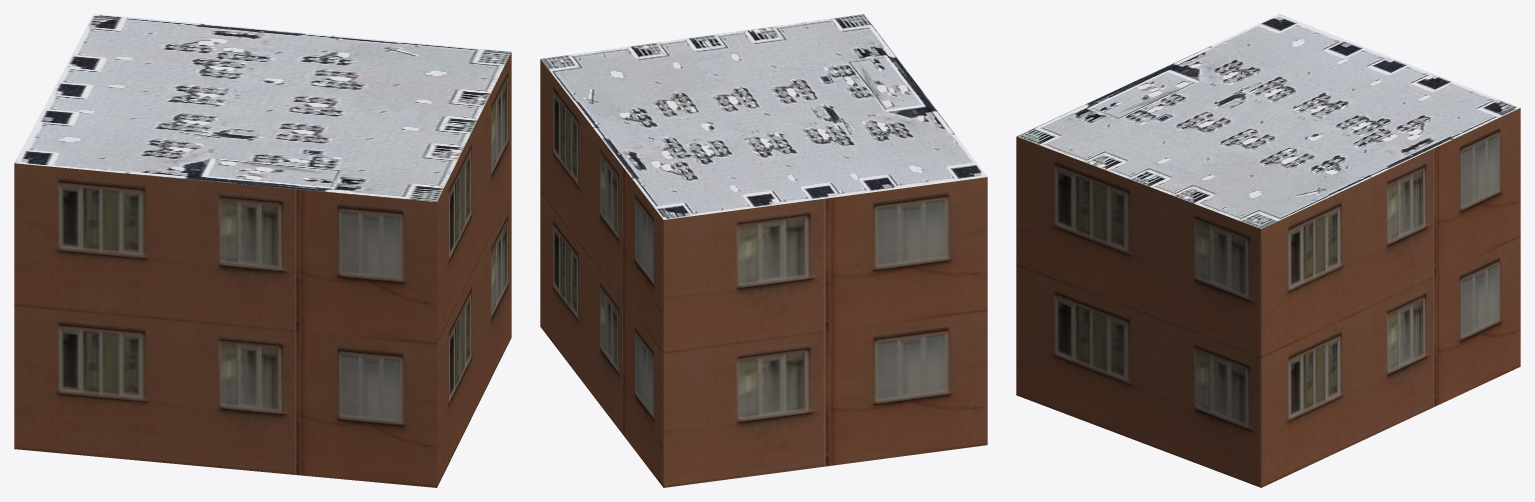
Rendered from ResTex__438.fbx.
3 renders of one model, left to right at view 1: azimuth 30°, elevation 25°; view 2: azimuth 150°, elevation 25°; view 3: azimuth 270°, elevation 25°, orthographic. The views are drawn at different scales.
Parts seen in each view (by area): view 1: CityEngineMaterial_20_m, CityEngineMaterial_4_m; view 2: CityEngineMaterial_20_m, CityEngineMaterial_4_m; view 3: CityEngineMaterial_20_m, CityEngineMaterial_4_m.
Boxes of the visible parts, x1,y1,x2,y2 form: CityEngineMaterial_20_m: [14, 52, 511, 487]; CityEngineMaterial_4_m: [15, 14, 511, 201]; CityEngineMaterial_20_m: [540, 59, 987, 487]; CityEngineMaterial_4_m: [541, 14, 987, 219]; CityEngineMaterial_20_m: [1016, 108, 1520, 487]; CityEngineMaterial_4_m: [1016, 14, 1520, 228].
Size of the model in its own units: 10.7 by 6 by 10.6.
Materials: 2 (2 with a texture image).
